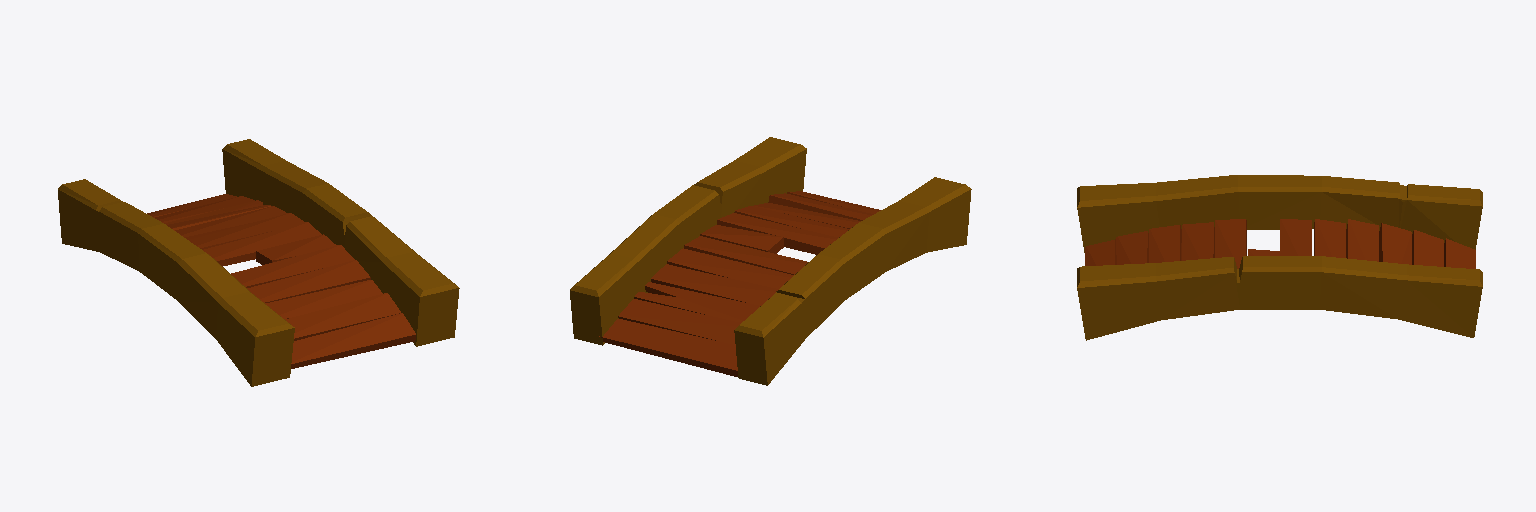
The model's file is bridge3.obj.
3 renders of one model, left to right at view 1: azimuth 30°, elevation 25°; view 2: azimuth 150°, elevation 25°; view 3: azimuth 270°, elevation 25°, orthographic.
Size of the model in its own units: 2.39 by 0.7855 by 4.11.